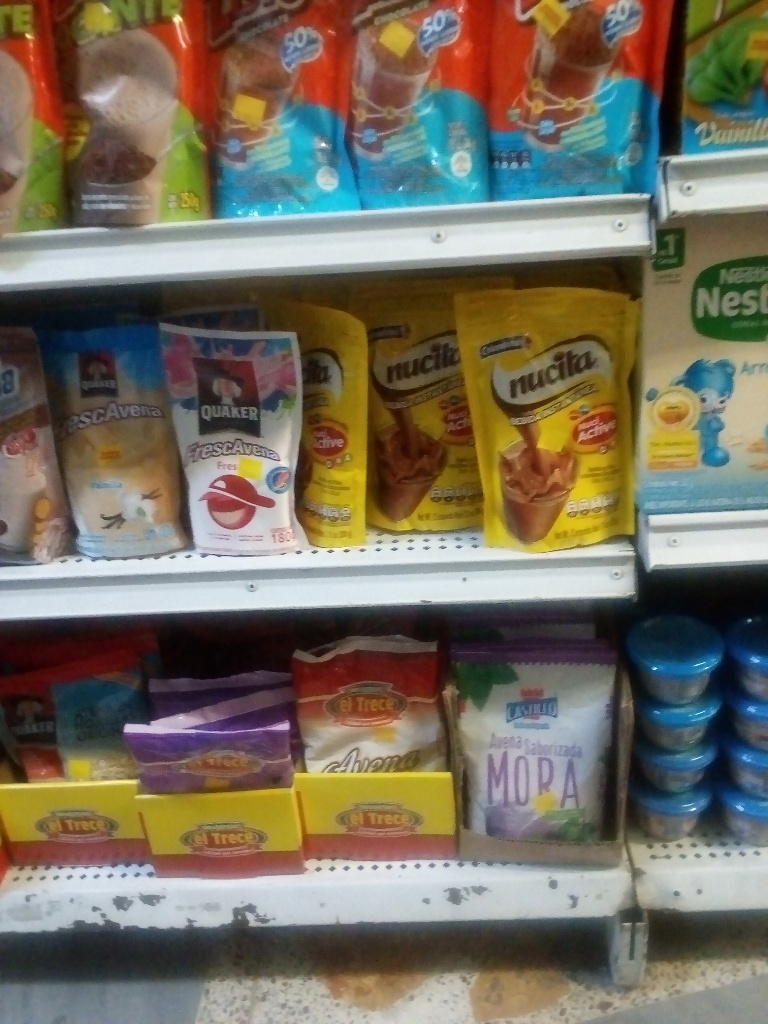COL0170104DYP20000: (498, 0, 664, 198)
